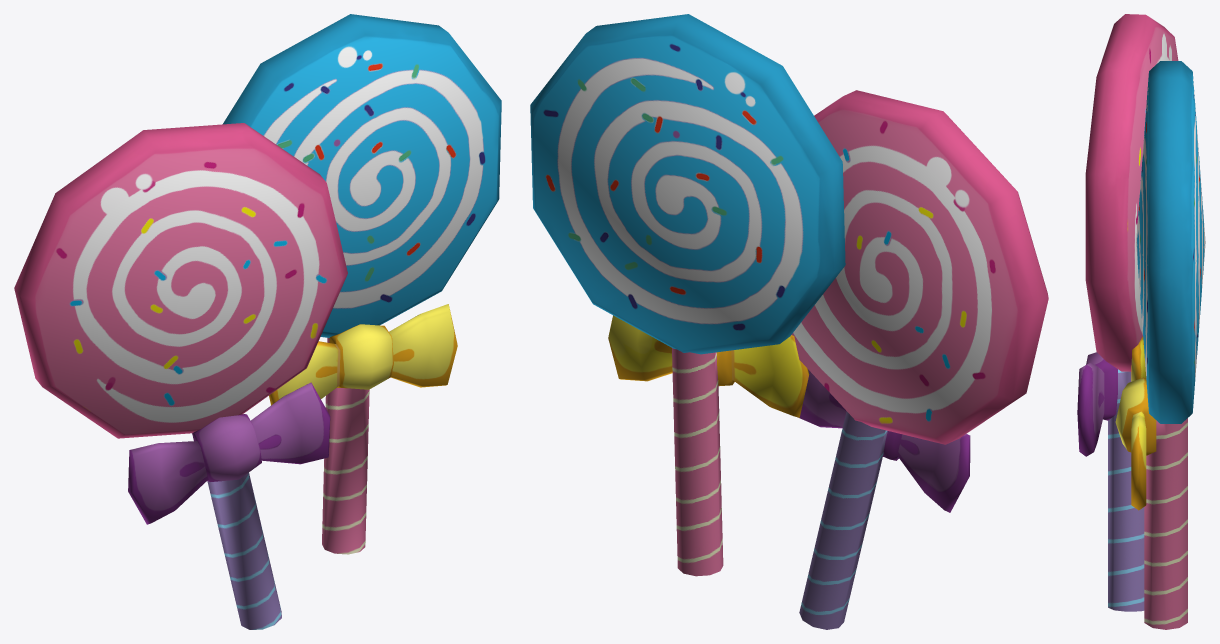
File: lollipop.fbx
3 views of the same model, side by side, from view 1: azimuth 30°, elevation 25°; view 2: azimuth 150°, elevation 25°; view 3: azimuth 270°, elevation 25° (orthographic). The views are drawn at different scales.
Parts seen in each view (by area): view 1: 032; view 2: 032; view 3: 032.
Part boxes in pixels (x1=…): 032: x1=14, y1=14, x2=501, y2=629; 032: x1=530, y1=14, x2=1048, y2=629; 032: x1=1077, y1=14, x2=1205, y2=629.
Size of the model in its own units: 44.29 by 49.39 by 9.7.
1 material, 1 textured.
